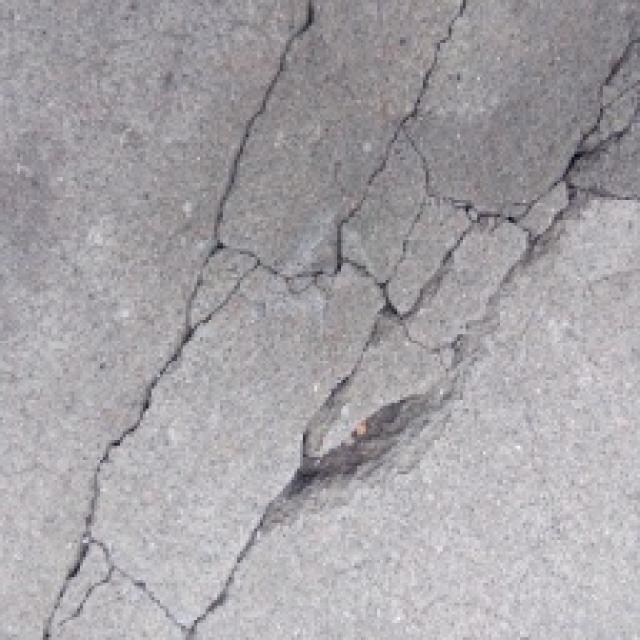SurfaceCrack: (40, 318, 326, 640)
